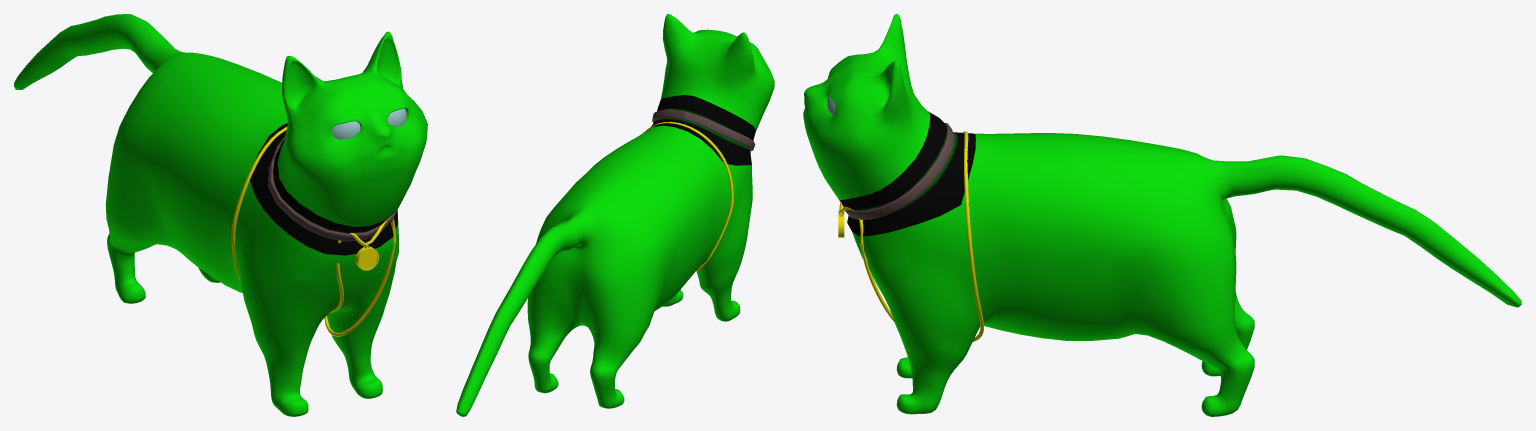
File: Bjorn_Idle.fbx
3 renders of one model, left to right at view 1: azimuth 30°, elevation 25°; view 2: azimuth 150°, elevation 25°; view 3: azimuth 270°, elevation 25°, orthographic. The views are drawn at different scales.
Parts seen in each view (by area): view 1: body, chain, neck, eye; view 2: body, neck, chain; view 3: body, chain, neck.
Boxes of the visible parts, <box> form: body: <box>14,14,427,416</box>; chain: <box>231,126,396,336</box>; neck: <box>268,136,397,241</box>; eye: <box>331,108,406,139</box>; body: <box>456,14,774,416</box>; neck: <box>652,109,755,151</box>; chain: <box>643,121,733,271</box>; body: <box>803,14,1521,416</box>; chain: <box>838,131,983,341</box>; neck: <box>842,123,954,219</box>.
Bounding box in the file's own units: 14.52 × 33.28 × 61.02.
